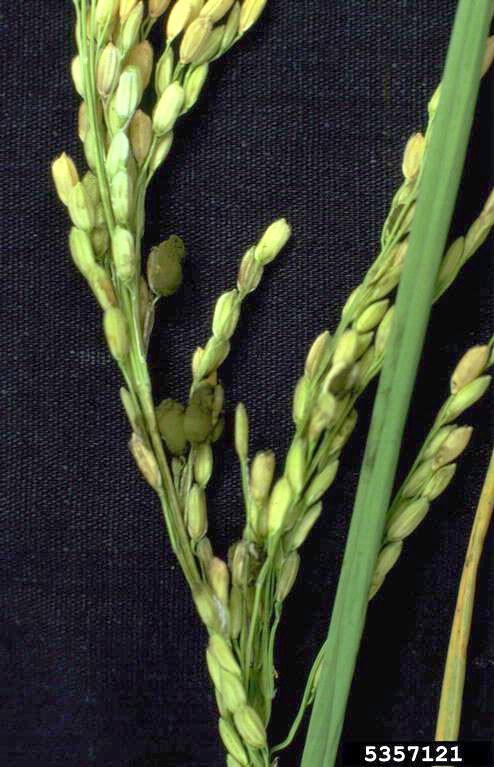False Smut: (136, 374, 240, 482), (140, 220, 190, 314)
